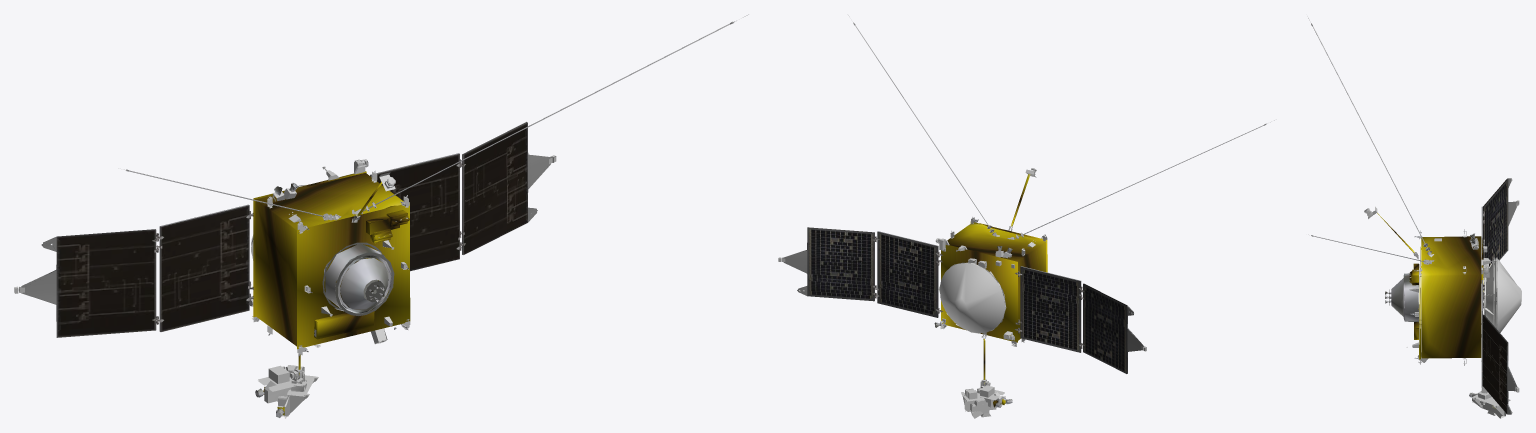
The model's file is maven_lod2.glb.
The picture shows the model from 3 angles, left to right: view 1: azimuth 30°, elevation 25°; view 2: azimuth 150°, elevation 25°; view 3: azimuth 270°, elevation 25°; orthographic projection. The views are drawn at different scales.
Parts seen in each view (by area): view 1: maven_lod2; view 2: maven_lod2; view 3: maven_lod2.
Boxes of the visible parts, x1,y1,x2,y2 form: maven_lod2: (14, 14, 748, 418); maven_lod2: (778, 15, 1276, 418); maven_lod2: (1306, 14, 1521, 418).
Bounding box in the file's own units: 13.14 × 8.22 × 5.42.
Materials: 10 (3 with a texture image).
